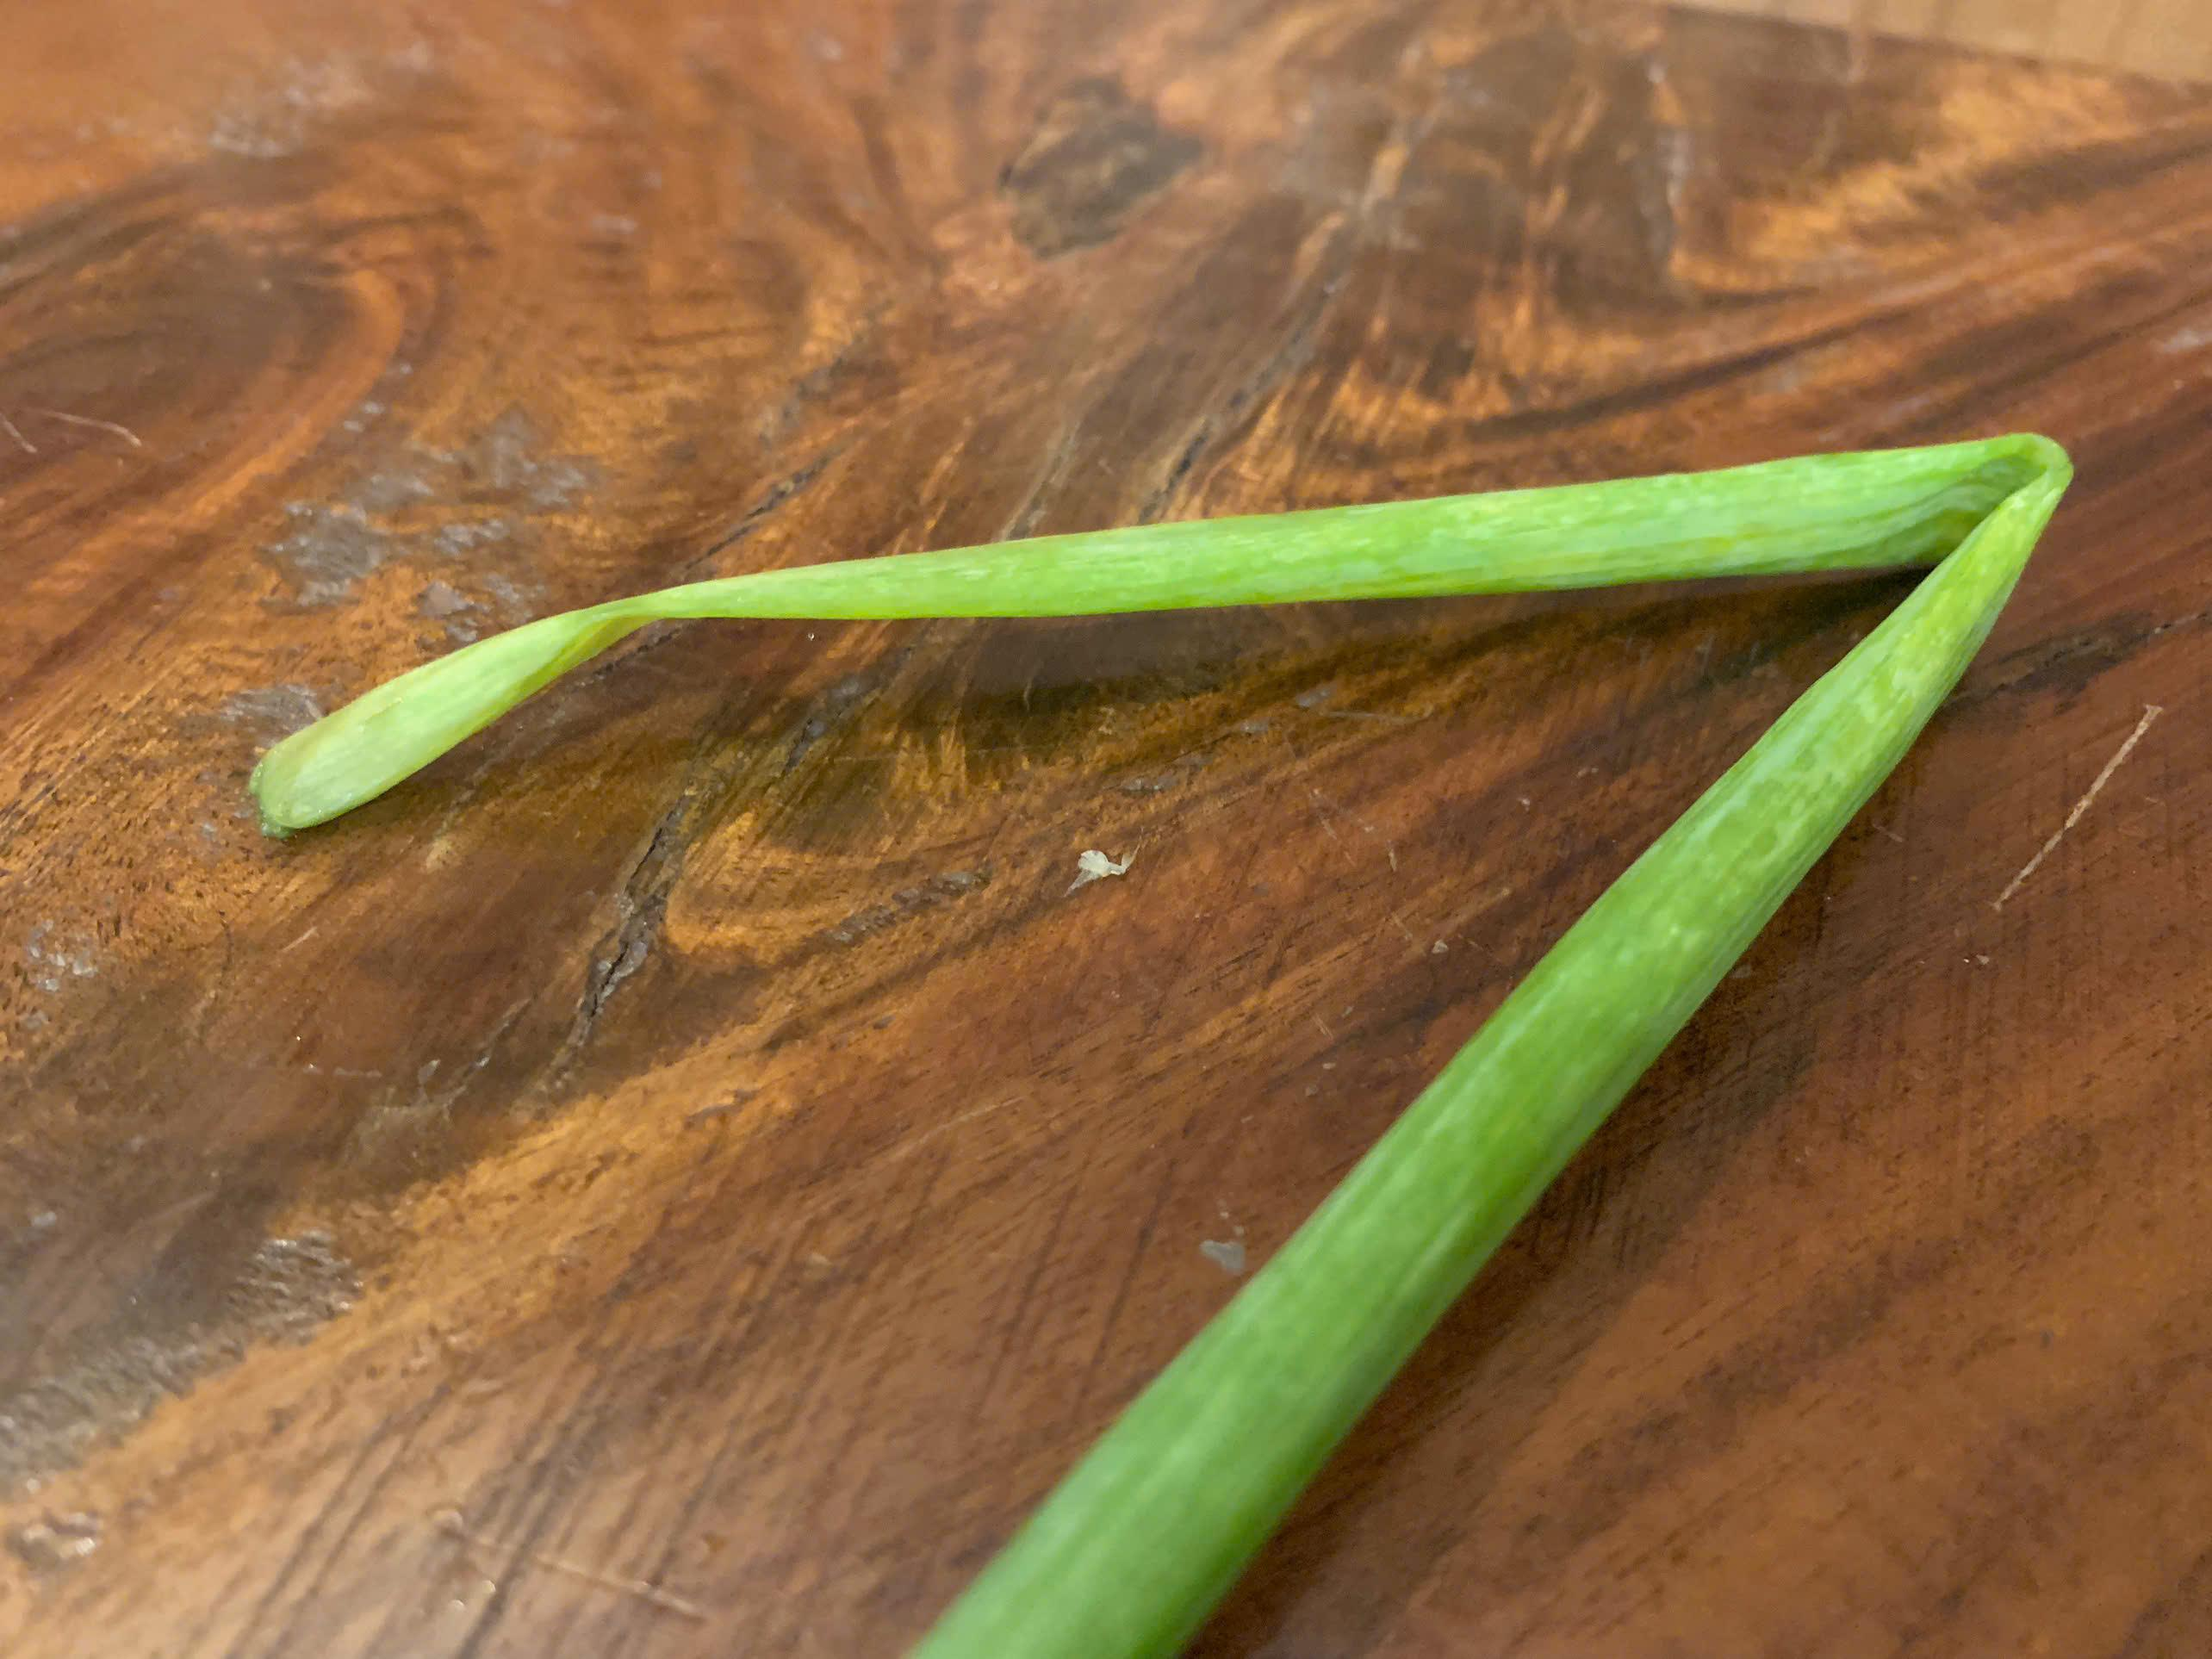Huu co: (256, 434, 2074, 1591)
